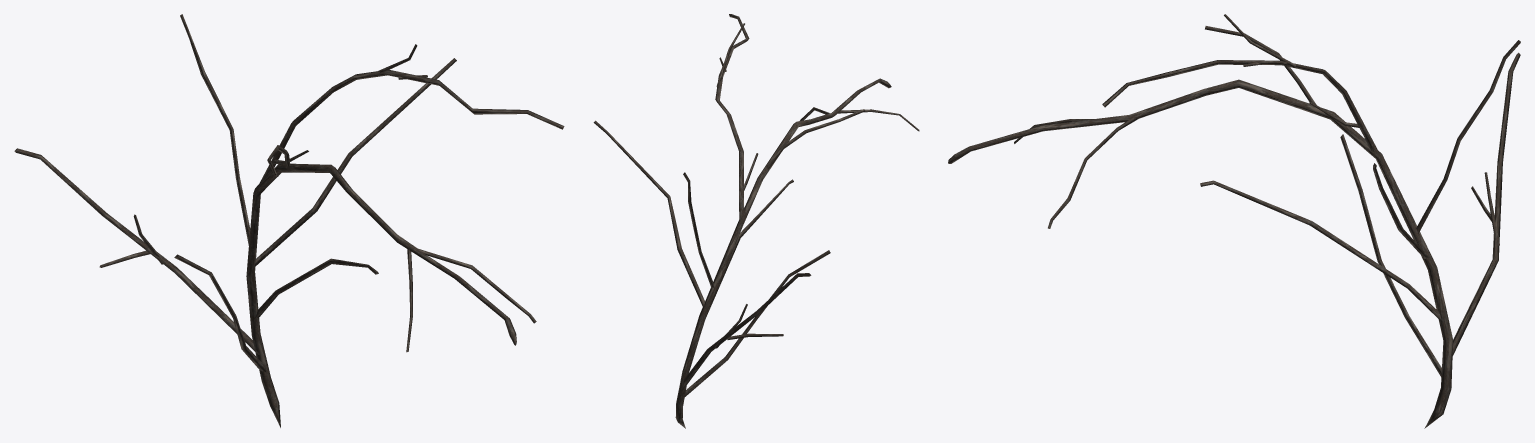
Rendered from Branch_deadwood5_LOD3.fbx.
3 renders of one model, left to right at view 1: azimuth 30°, elevation 25°; view 2: azimuth 150°, elevation 25°; view 3: azimuth 270°, elevation 25°, orthographic. The views are drawn at different scales.
Parts seen in each view (by area): view 1: polySurface20; view 2: polySurface20; view 3: polySurface20.
Boxes of the visible parts, <box> form: polySurface20: <box>14,14,564,427</box>; polySurface20: <box>593,14,919,428</box>; polySurface20: <box>948,14,1520,428</box>.
Size of the model in its own units: 169 by 201 by 244.
